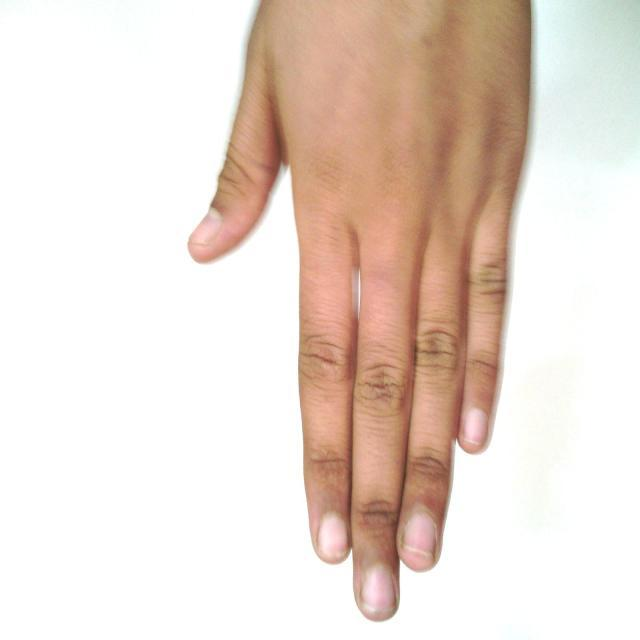Fingernail: (403, 513, 436, 567), (362, 567, 395, 616), (319, 515, 348, 561), (191, 212, 220, 244), (462, 410, 486, 444)
